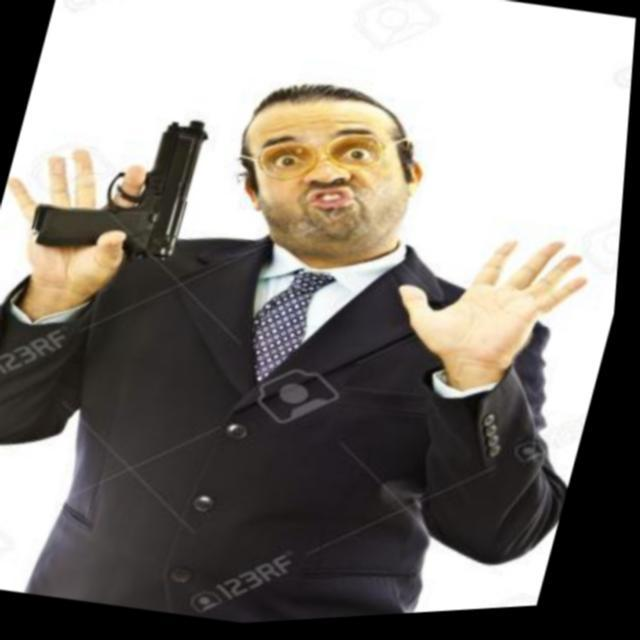weapon: (10, 83, 234, 292)
